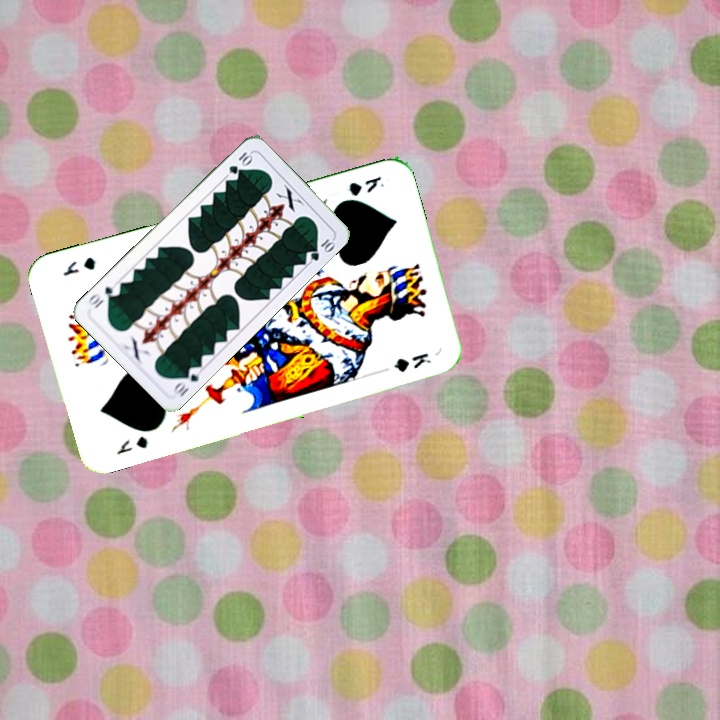G10: (169, 362, 204, 400), (225, 148, 255, 177)
GK: (345, 172, 387, 199), (112, 431, 151, 458)
